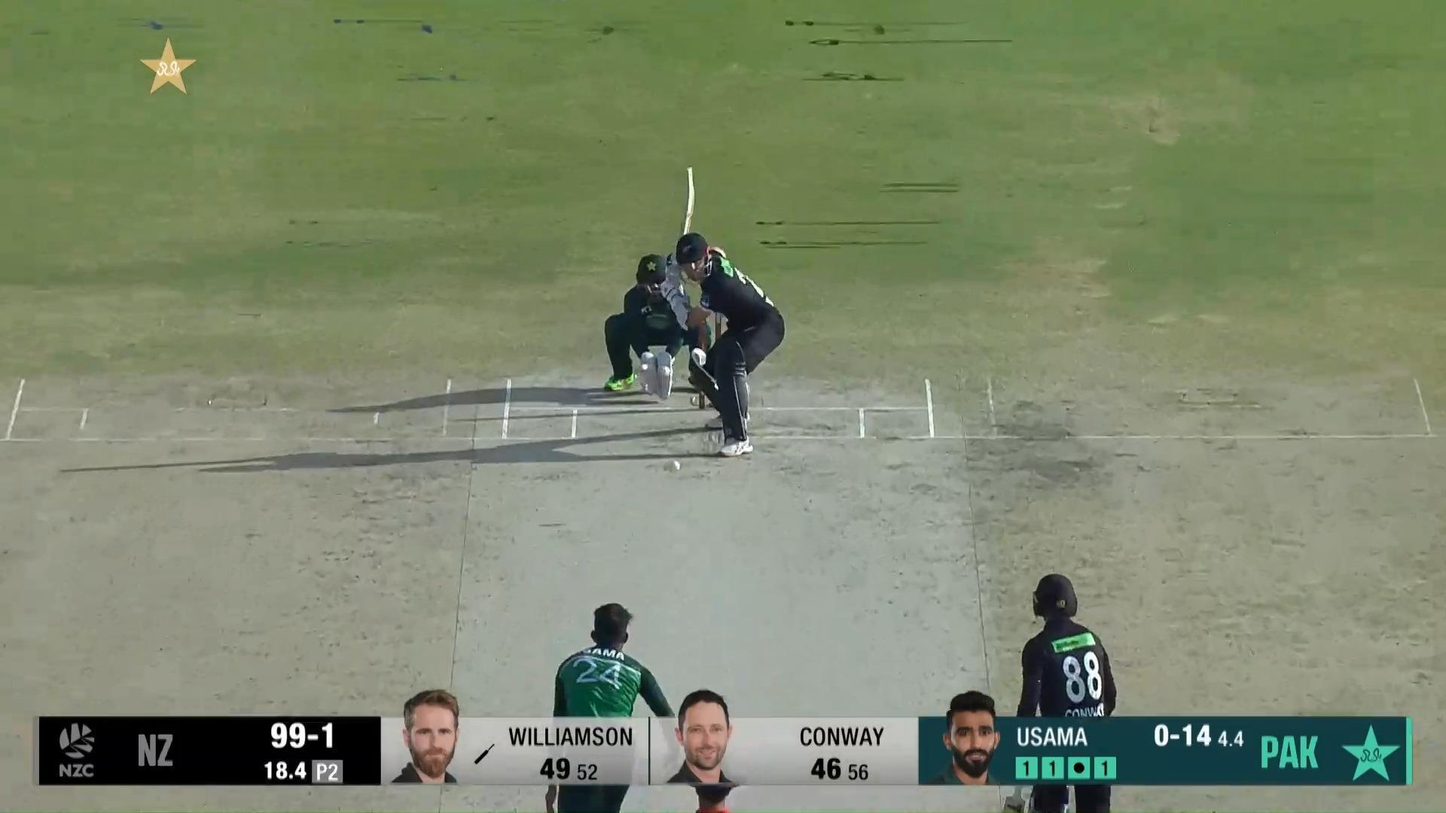BM 1: (660, 164, 786, 458)
BO: (543, 602, 679, 813)
